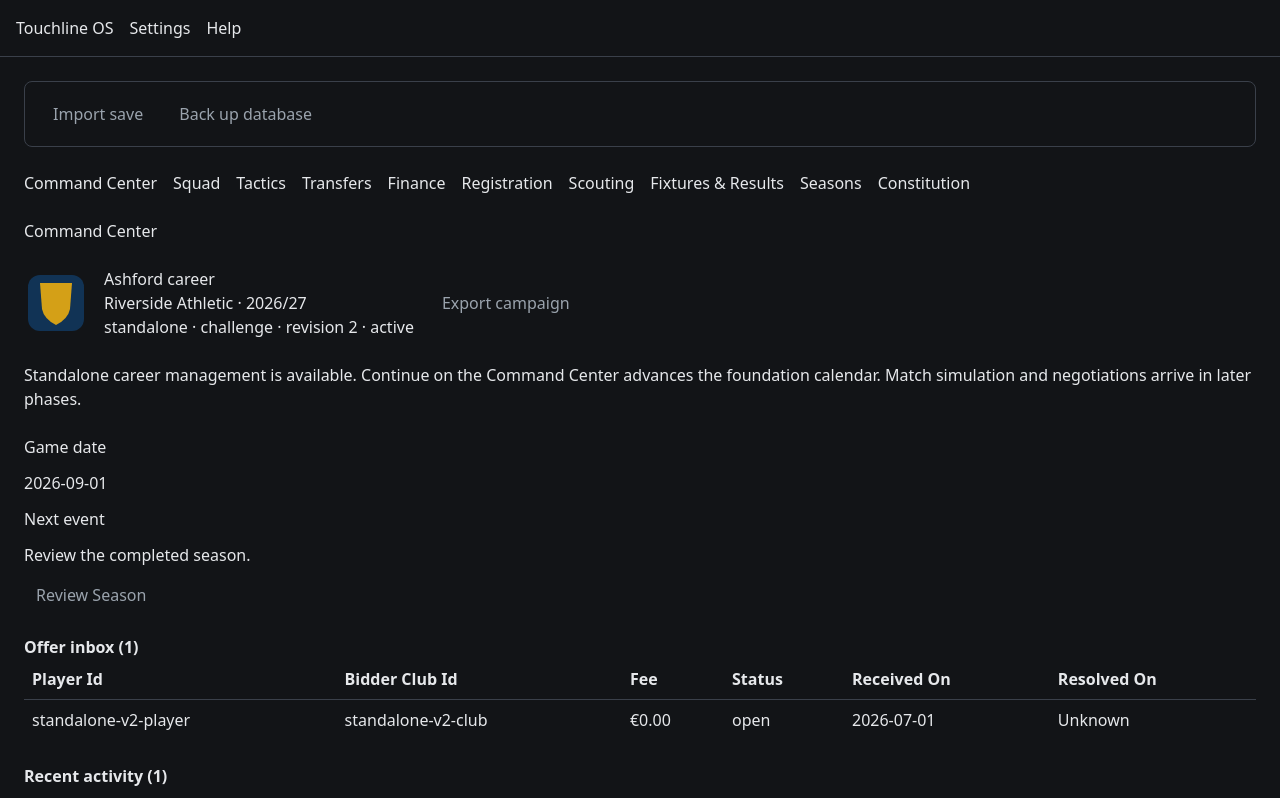
Test: native continue › opens the season review without a simulate control
What coordinates should you click on to do the following:
click the button "Review Season"
I would click on:
 (91, 595)
Its box is [24,579,158,611].
(page scrolled)
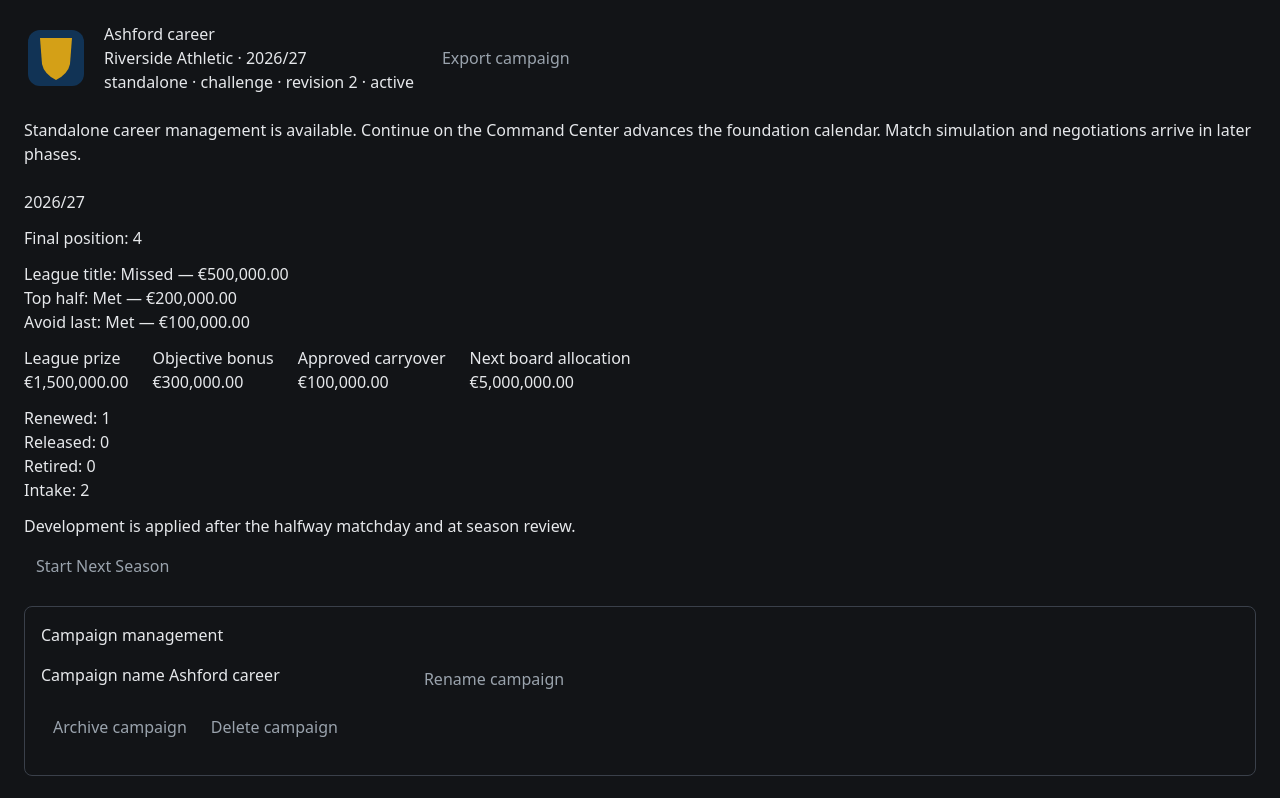
Expected: the list item "Top half: Met — €200,000.00" is shown, [24,287,237,309]
Expected: the list item "League title: Missed — €500,000.00" is shown, [24,263,289,285]
Expected: the text "€1,500,000.00" is shown, [24,370,128,394]
